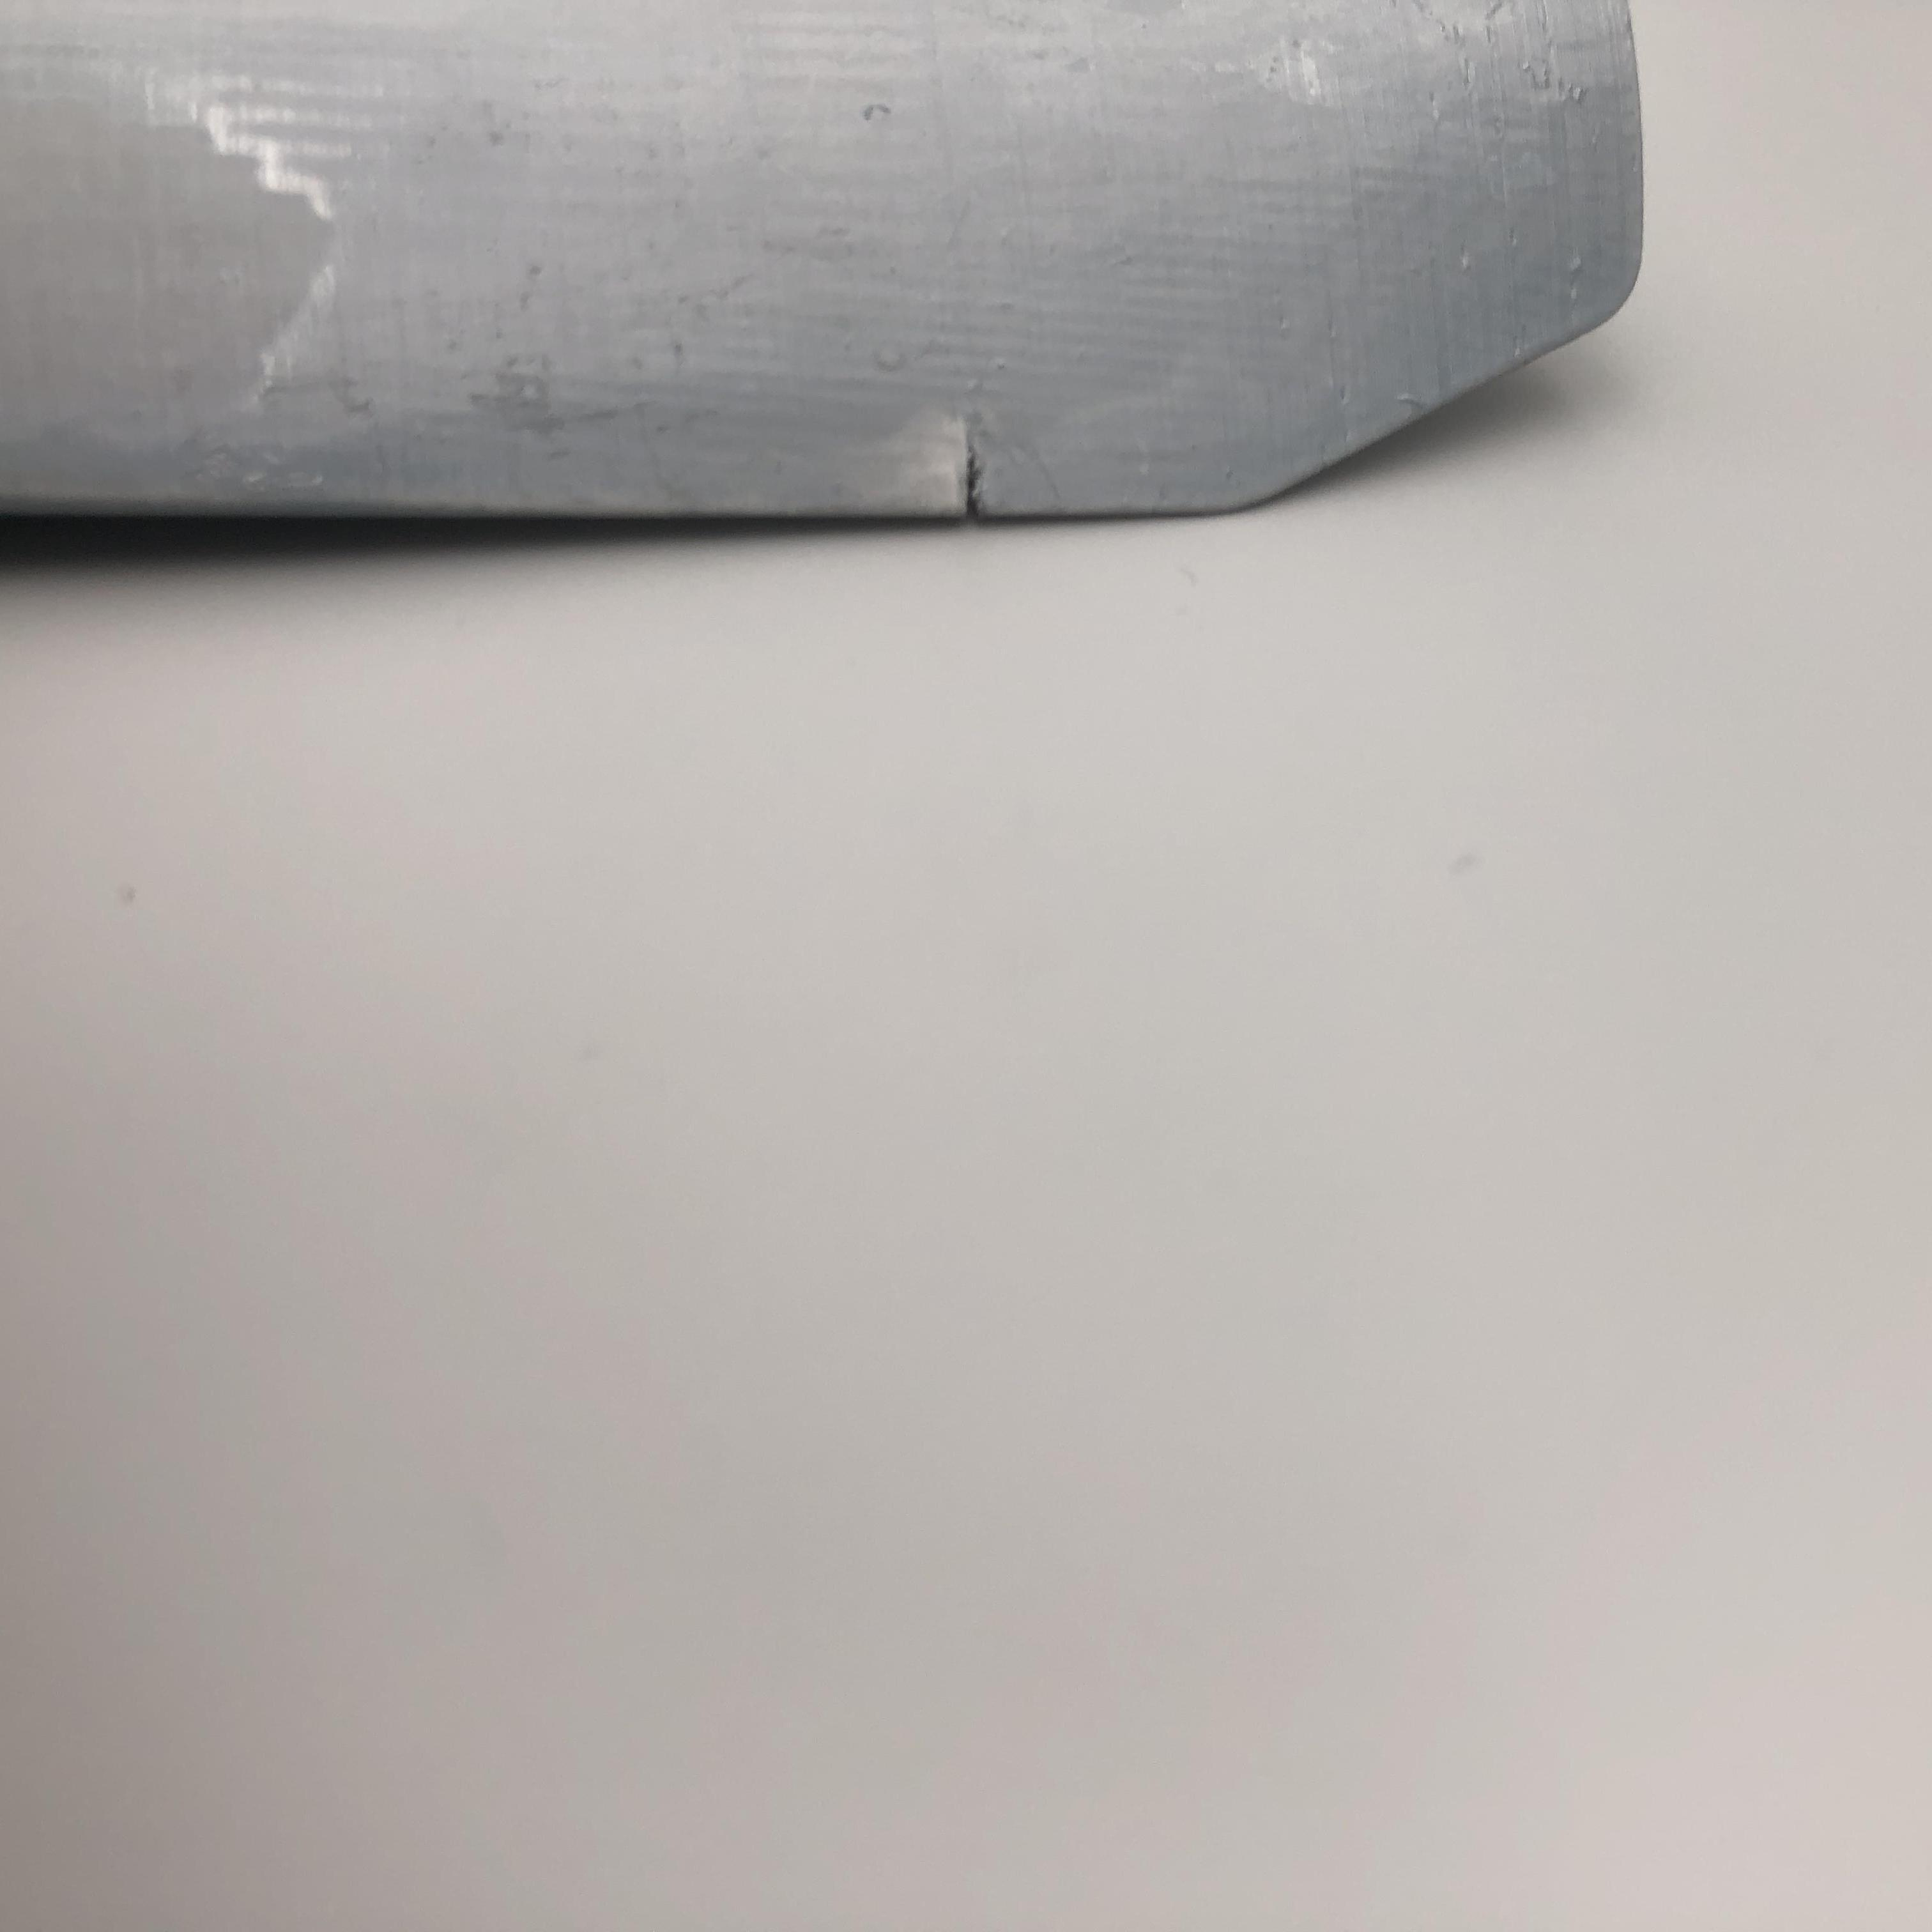groove: (947, 432, 1021, 517)
